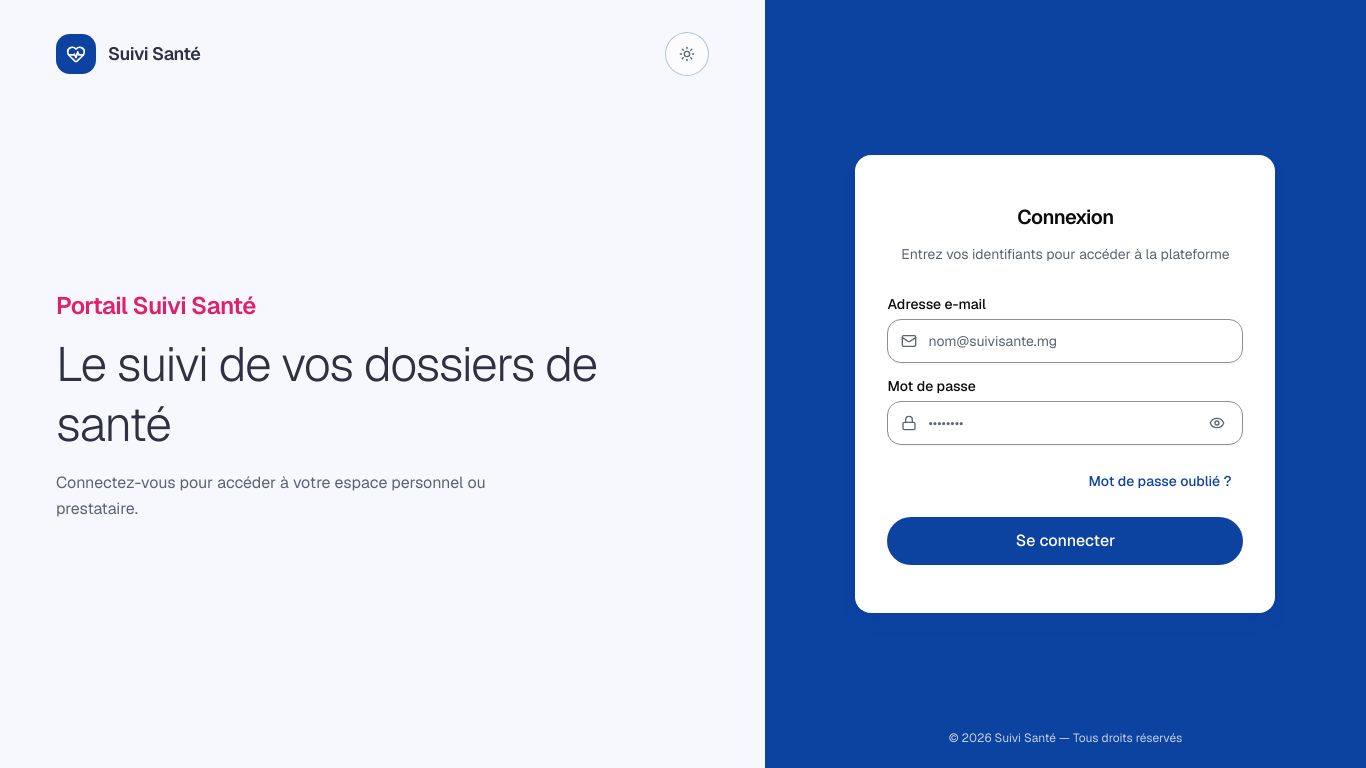
Scenario: Page de connexion › affiche "Identifiants incorrects" quand les identifiants sont refusés
The width and height of the screenshot is (1366, 768).
Type "admin@suivisante.mg" into the field labelled "Adresse e-mail".
click(1066, 341); type("admin@suivisante.mg")  # box x1=888 y1=319 x2=1244 y2=363
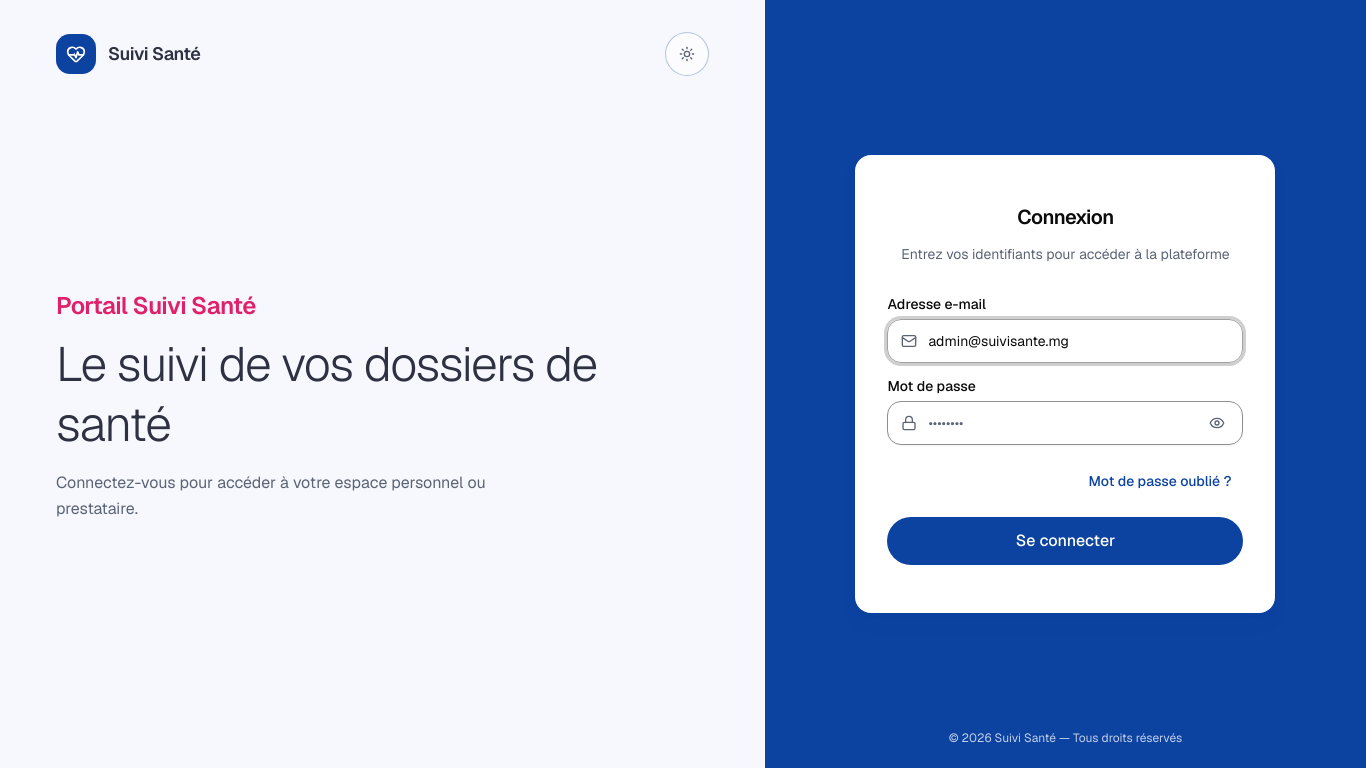
Type "mauvais" into the password field labelled "Mot de passe".
click(1066, 423); type("mauvais")  # box x1=888 y1=401 x2=1244 y2=445
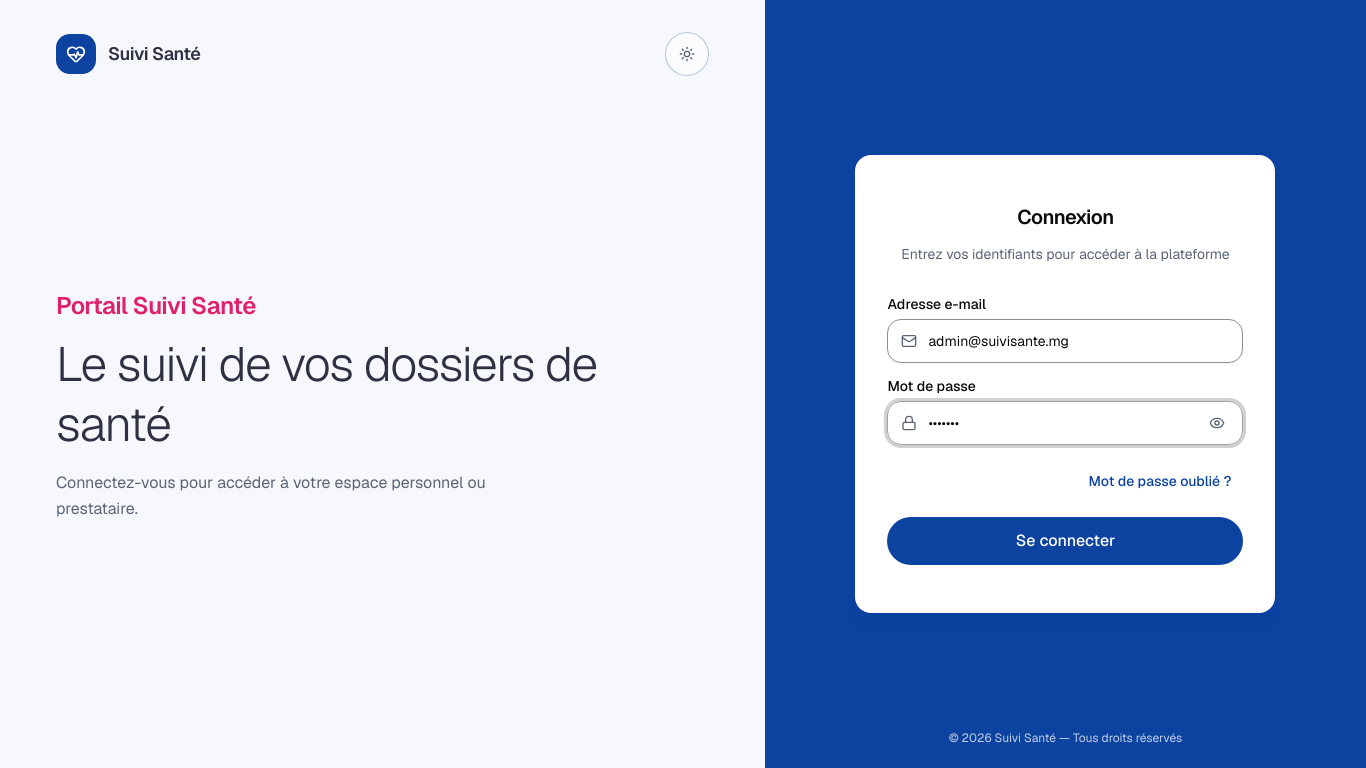
Click the button "Se connecter".
click(1066, 541)  # box x1=888 y1=517 x2=1244 y2=565
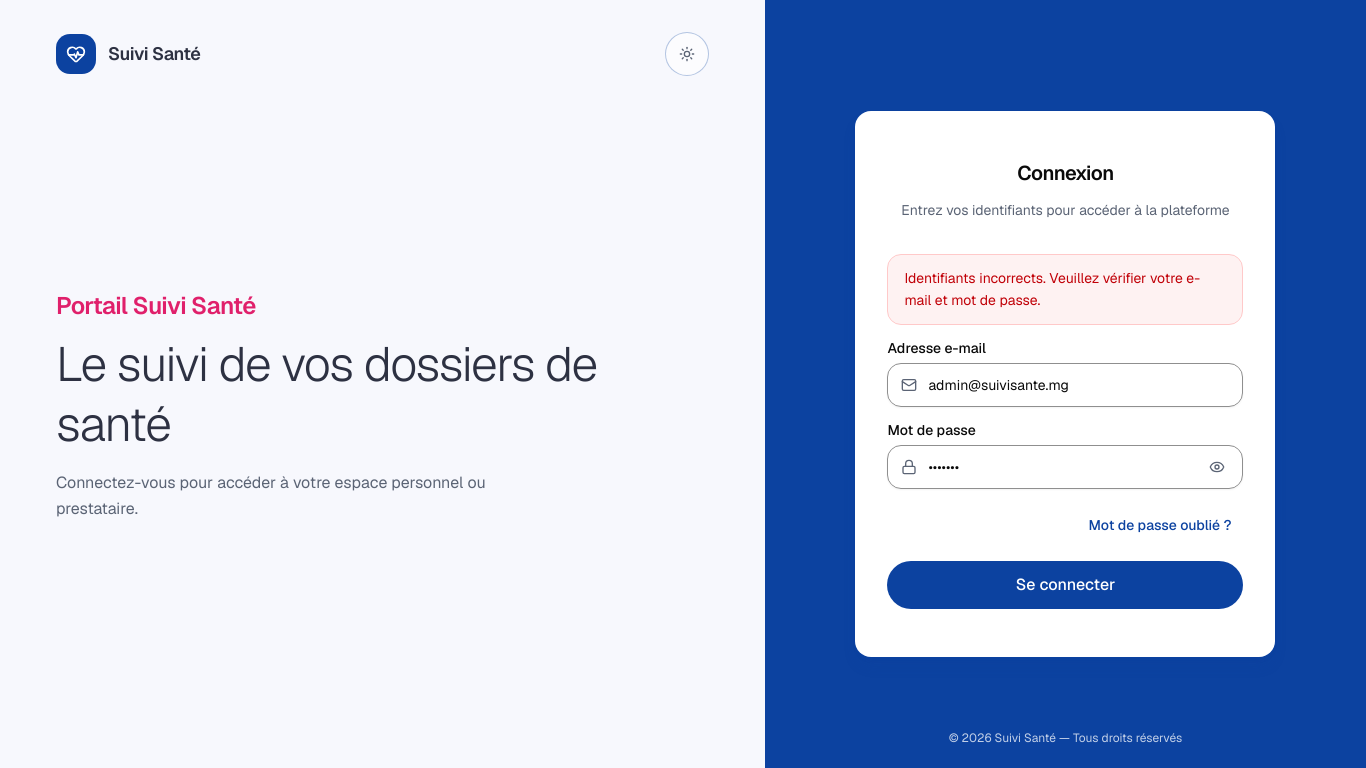
Expected: the message shows "Identifiants incorrects", x1=904 y1=269 x2=1200 y2=309
